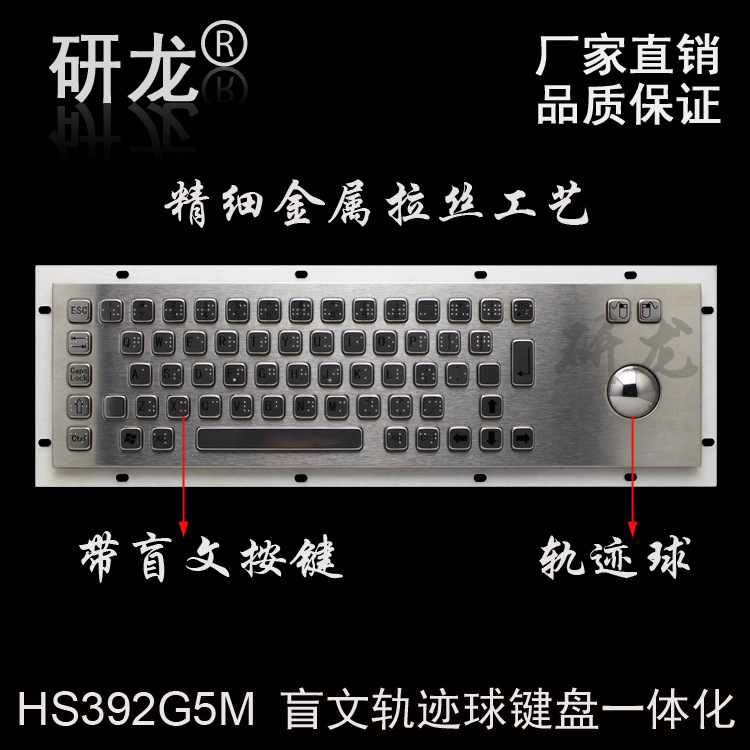Braille: (390, 398, 400, 414), (333, 302, 343, 317), (418, 302, 428, 317), (270, 302, 279, 318), (423, 398, 432, 414), (354, 303, 364, 317), (460, 303, 470, 317), (524, 303, 534, 317), (363, 367, 373, 381), (143, 303, 152, 318), (228, 303, 237, 318), (259, 303, 268, 318), (302, 302, 311, 317), (196, 335, 205, 350), (228, 334, 237, 349), (259, 334, 268, 349), (429, 302, 438, 317), (482, 302, 491, 317), (493, 302, 502, 317), (450, 334, 459, 349), (172, 367, 181, 382), (401, 399, 410, 414), (306, 399, 315, 414), (179, 399, 188, 414), (398, 430, 407, 445), (429, 431, 438, 446), (69, 399, 78, 414), (69, 367, 78, 382), (395, 368, 405, 381), (323, 302, 331, 318), (112, 304, 121, 318), (175, 303, 184, 317), (164, 303, 173, 317), (207, 303, 216, 317), (238, 303, 247, 317), (132, 335, 141, 349), (291, 335, 300, 349), (323, 335, 332, 349), (366, 303, 375, 317), (450, 303, 459, 317), (514, 303, 523, 317), (440, 335, 449, 349), (482, 335, 491, 349), (204, 367, 213, 381), (236, 367, 245, 381), (299, 367, 308, 381), (427, 367, 436, 381), (459, 367, 468, 381), (242, 400, 251, 414), (210, 399, 219, 413), (387, 431, 396, 445), (152, 431, 161, 445), (80, 431, 89, 445), (291, 302, 299, 317), (398, 302, 406, 317), (472, 333, 480, 348), (332, 367, 340, 382), (434, 399, 442, 414), (148, 399, 156, 414), (81, 399, 89, 414), (132, 304, 141, 317), (419, 335, 428, 348), (268, 367, 277, 380), (448, 368, 457, 381), (359, 400, 368, 413), (69, 336, 78, 349), (69, 431, 78, 444), (164, 335, 172, 349), (387, 303, 395, 317), (387, 334, 395, 348), (417, 367, 425, 381), (370, 399, 378, 413), (338, 400, 346, 414), (275, 399, 283, 413), (419, 431, 427, 445), (163, 431, 171, 445), (69, 303, 77, 317), (80, 367, 88, 381), (196, 304, 204, 317), (355, 335, 363, 348), (141, 367, 149, 380), (101, 304, 109, 317), (81, 335, 89, 348), (80, 304, 88, 317)
